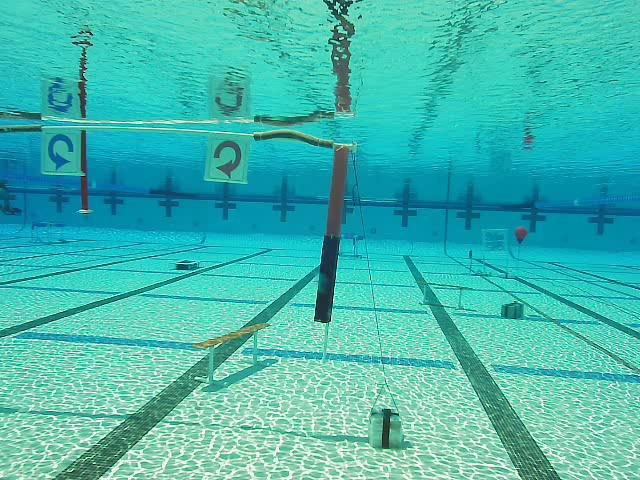buoy: (515, 227, 528, 246)
dropper: (176, 257, 200, 272)
gate_blue: (42, 129, 83, 176)
gate_leg_r: (313, 141, 354, 324)
gate_red: (206, 136, 249, 183)
torpedo: (482, 230, 507, 253)
